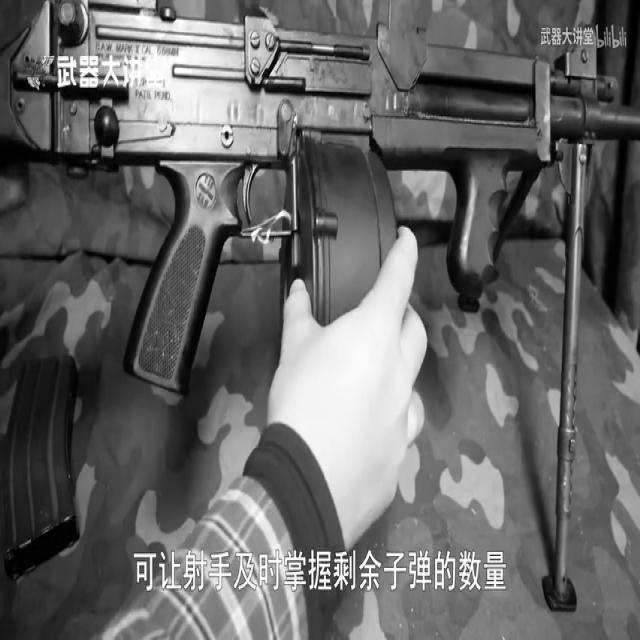Sub-machine-gun: (14, 0, 640, 571)
